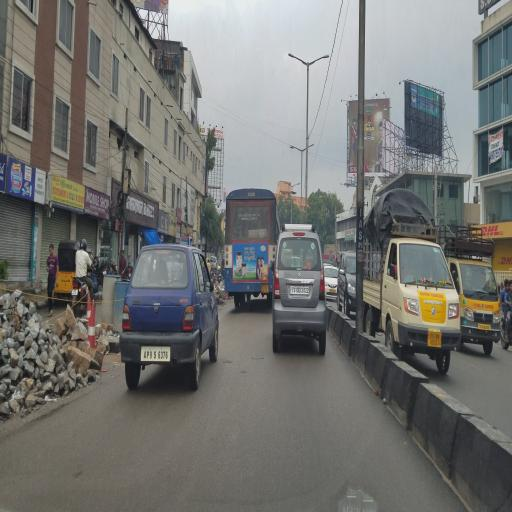street_light_0: (308, 52, 334, 80), (280, 49, 306, 77), (298, 135, 318, 161), (281, 136, 301, 162)
